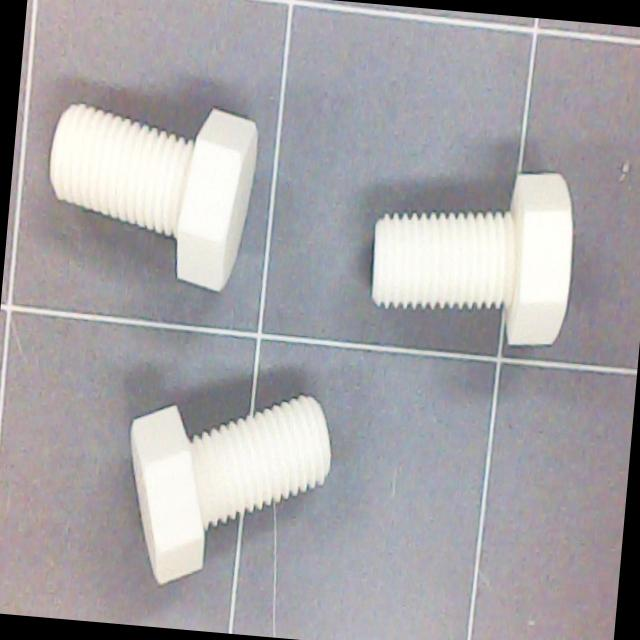bolts: (29, 77, 265, 292), (124, 384, 344, 583), (365, 158, 576, 348)
